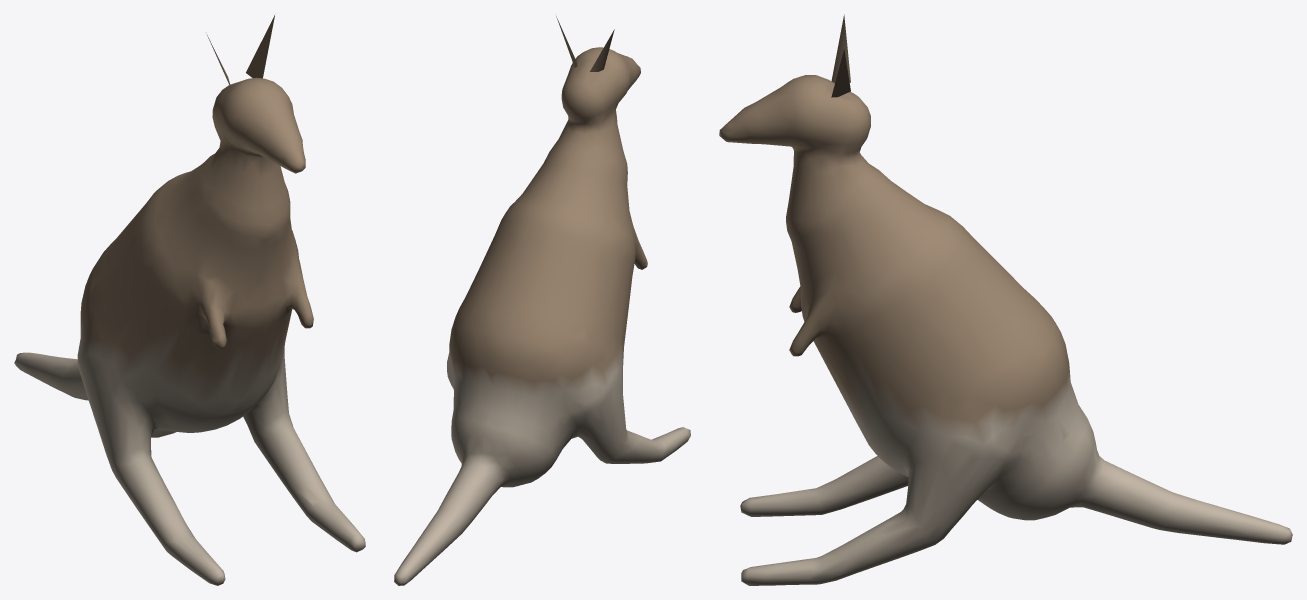
Rendered from kaenguru.glb.
The picture shows the model from 3 angles, left to right: view 1: azimuth 30°, elevation 25°; view 2: azimuth 150°, elevation 25°; view 3: azimuth 270°, elevation 25°; orthographic projection. The views are drawn at different scales.
Parts seen in each view (by area): view 1: lack; view 2: lack; view 3: lack.
Boxes of the visible parts, bbox=[...] form: lack: bbox=[14, 15, 365, 585]; lack: bbox=[394, 16, 690, 585]; lack: bbox=[719, 14, 1292, 585].
Bounding box in the file's own units: 0.6368 × 1.68 × 1.68.
